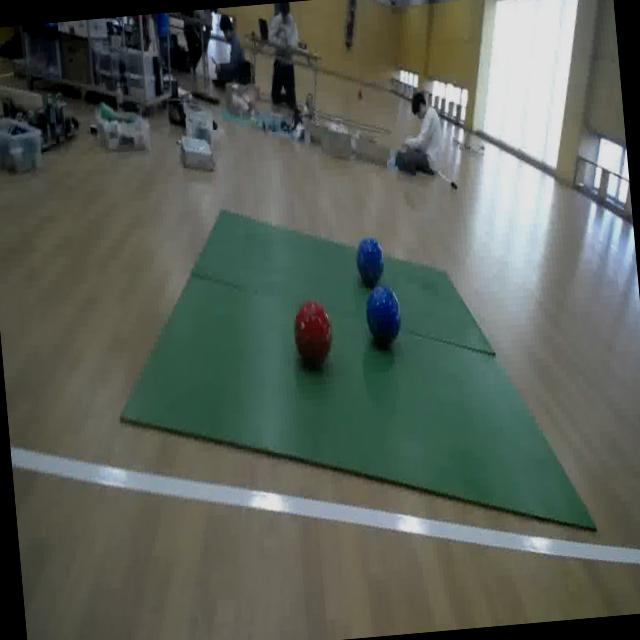blue_ball: (364, 284, 404, 348), (353, 236, 387, 285)
red_ball: (292, 297, 336, 372)
